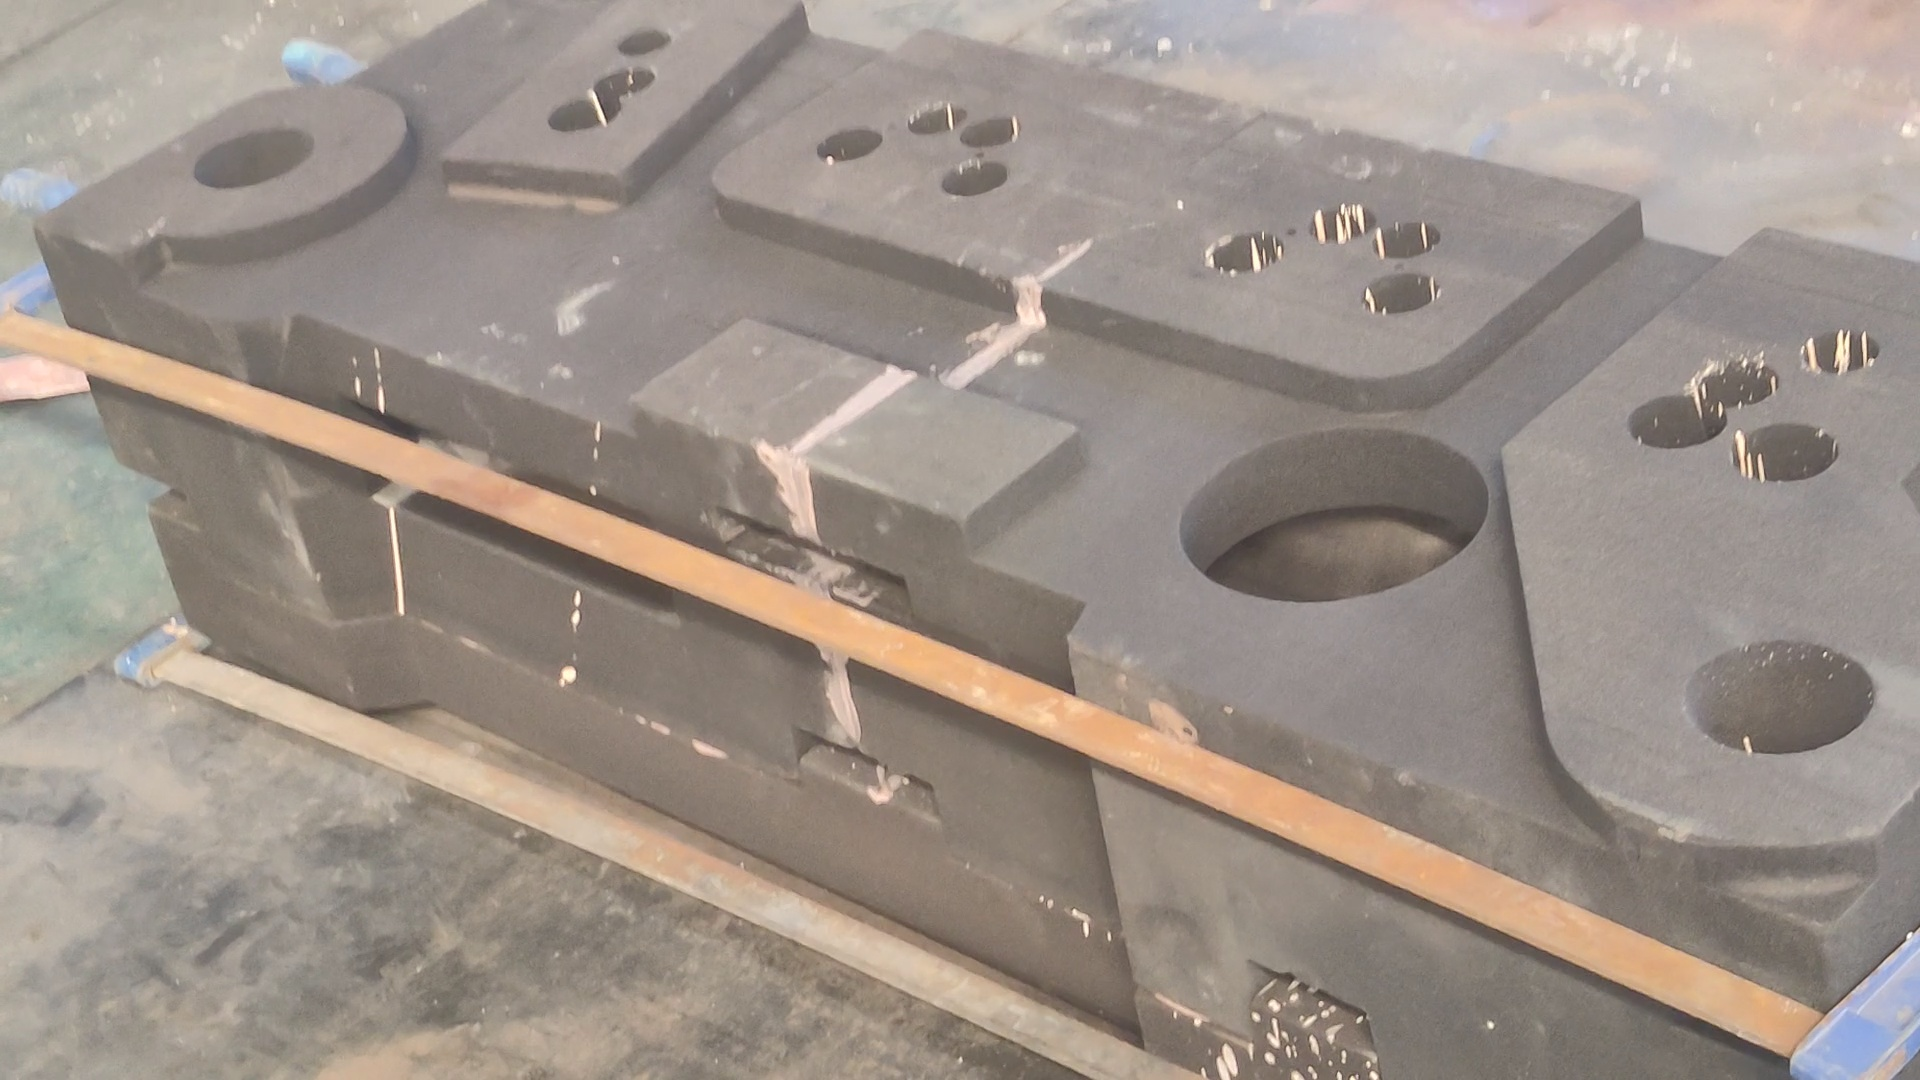pouring hole: (1683, 636, 1876, 756), (193, 127, 318, 191)
